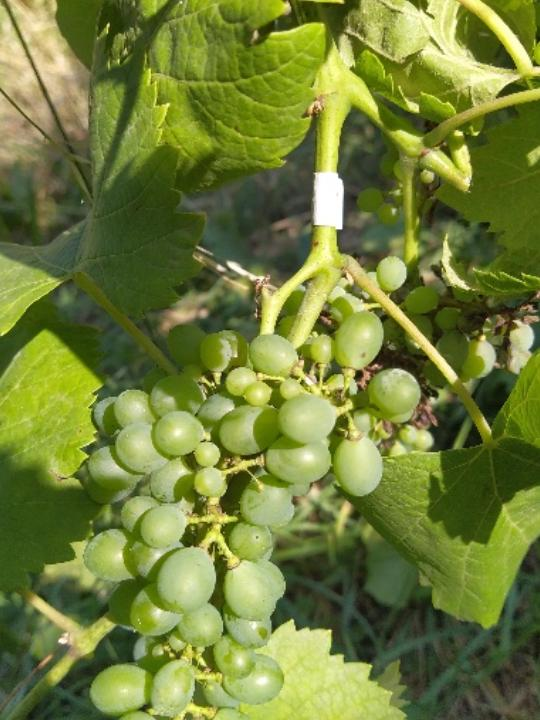grape: (40, 306, 430, 720)
